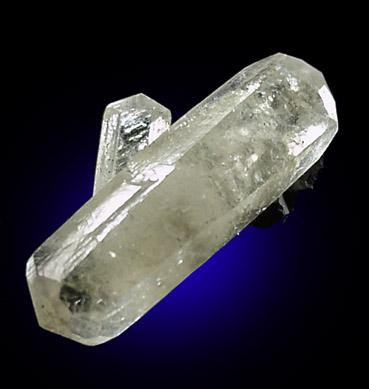calcite: (26, 53, 339, 346)
